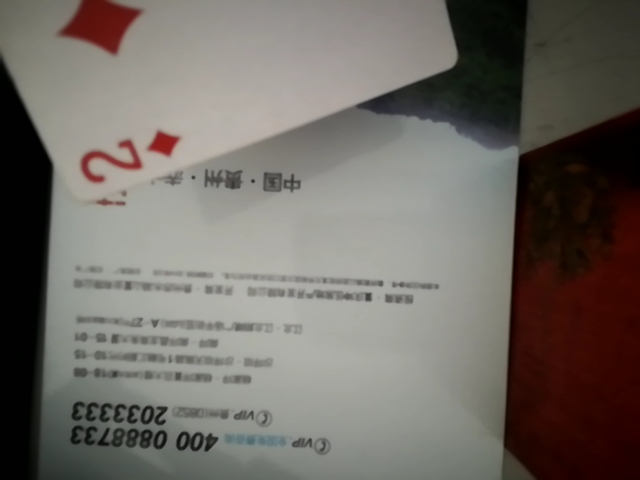fk 2: (0, 0, 479, 221)
